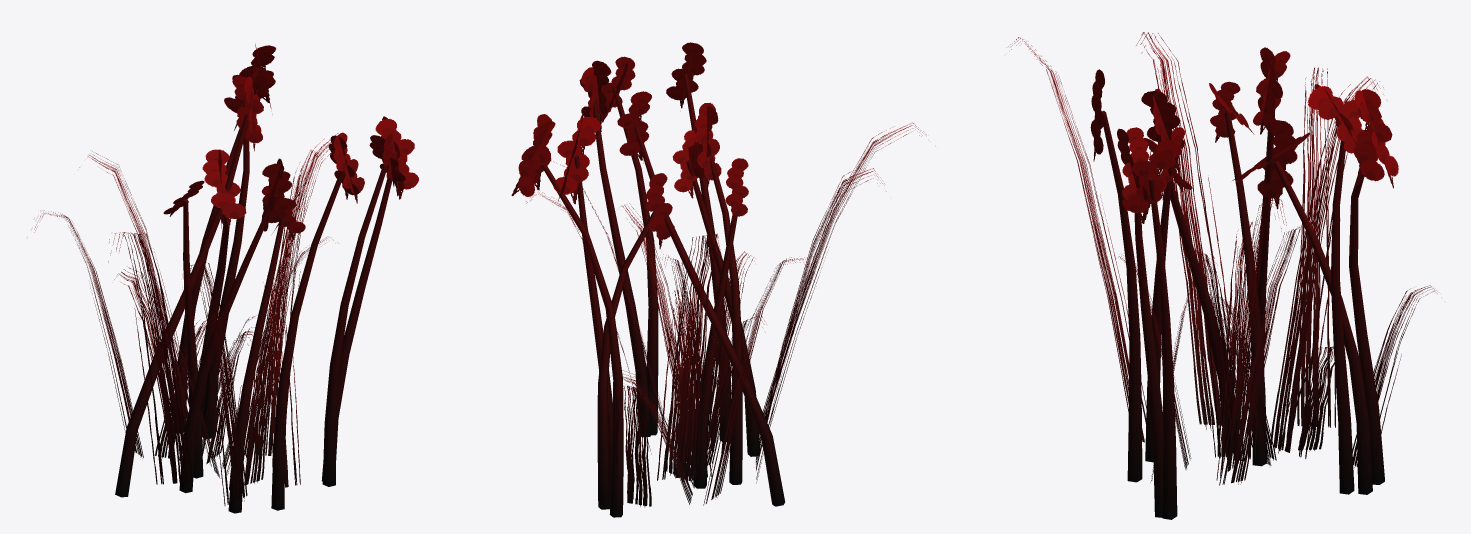
File: plant_highlands_wildflower_a.glb
The picture shows the model from 3 angles, left to right: view 1: azimuth 30°, elevation 25°; view 2: azimuth 150°, elevation 25°; view 3: azimuth 270°, elevation 25°; orthographic projection. The views are drawn at different scales.
Parts seen in each view (by area): view 1: plant_highlands_wildflower_a; view 2: plant_highlands_wildflower_a; view 3: plant_highlands_wildflower_a.
Boxes of the visible parts, x1,y1,x2,y2 form: plant_highlands_wildflower_a: (34, 43, 418, 513); plant_highlands_wildflower_a: (511, 42, 926, 517); plant_highlands_wildflower_a: (1008, 32, 1436, 519).
Bounding box in the file's own units: 0.3526 × 0.3892 × 0.3502.
1 material, 1 textured.
